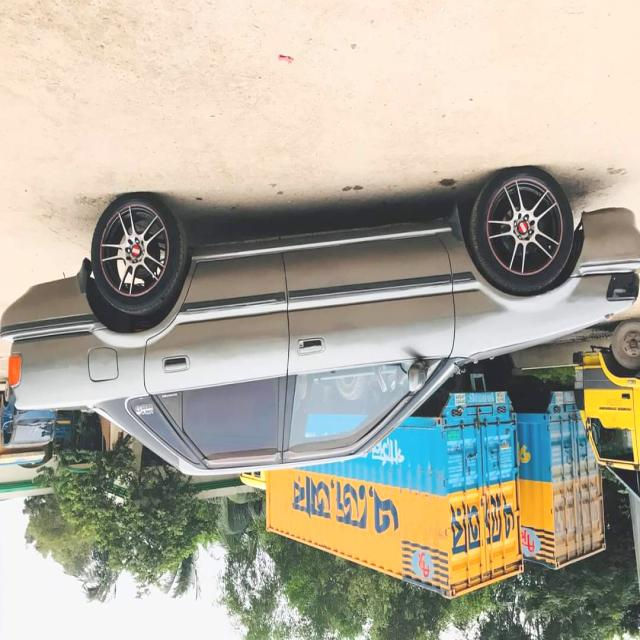silver: (1, 215, 638, 478)
